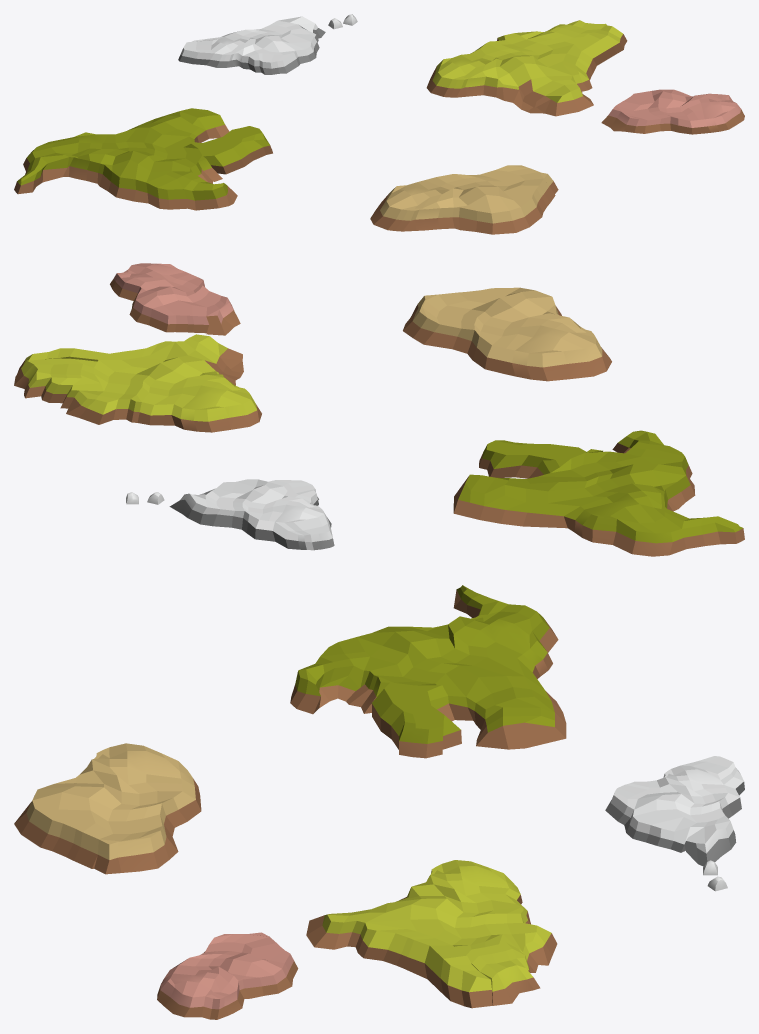
File: Islands.fbx
3 renders of one model, top to bottom at view 1: azimuth 30°, elevation 25°; view 2: azimuth 150°, elevation 25°; view 3: azimuth 270°, elevation 25°, orthographic. The views are drawn at different scales.
Parts seen in each view (by area): view 1: Islands; view 2: Islands; view 3: Islands.
Part boxes in pixels (<box>): Islands: <box>14,14,744,234</box>; Islands: <box>14,263,744,556</box>; Islands: <box>14,585,744,1019</box>.
Size of the model in its own units: 0.2614 by 0.0114 by 0.1926.
